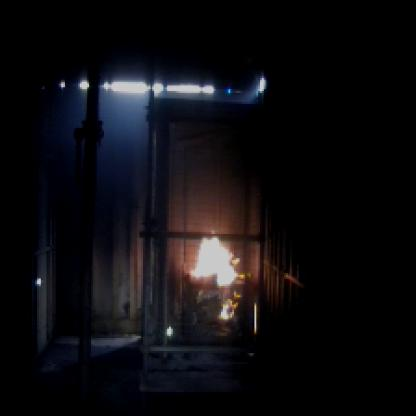Fire: (177, 230, 245, 320)
